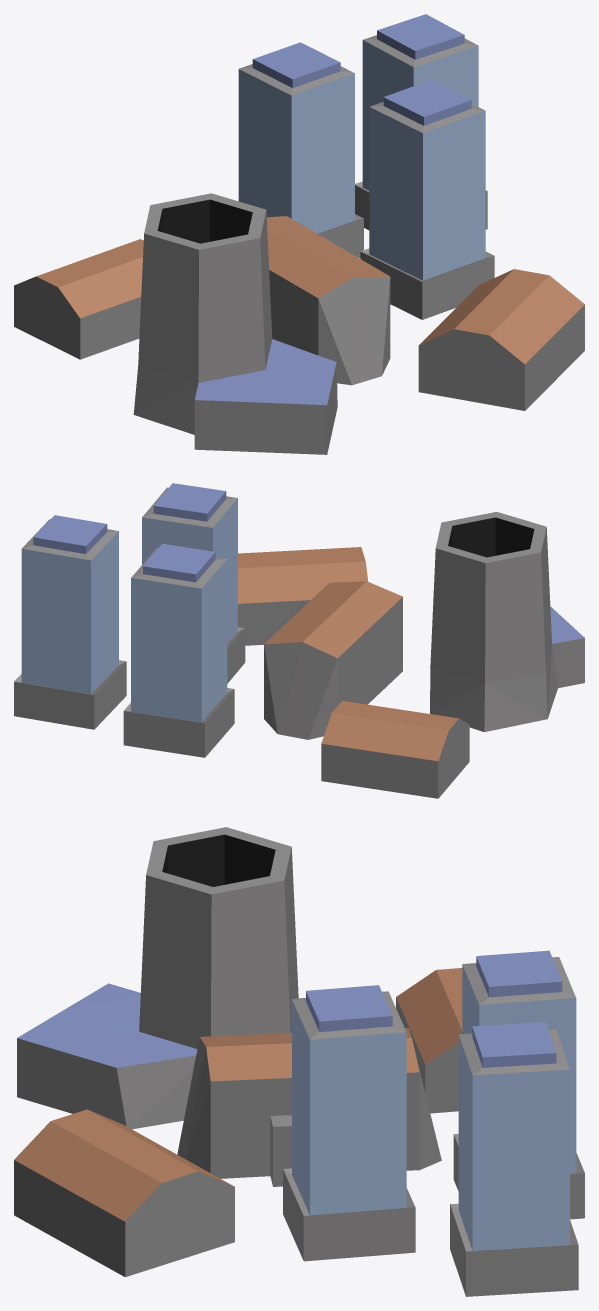
File: beta01_04.dae
3 renders of one model, top to bottom at view 1: azimuth 30°, elevation 25°; view 2: azimuth 150°, elevation 25°; view 3: azimuth 270°, elevation 25°, orthographic. The views are drawn at different scales.
Visible parts, largest first — view 1: Cube; view 2: Cube; view 3: Cube.
Boxes of the visible parts, x1,y1,x2,y2 form: Cube: (14, 14, 584, 454); Cube: (14, 483, 584, 798); Cube: (14, 827, 584, 1296).
Size of the model in its own units: 2.17 by 1.99 by 0.9112.
